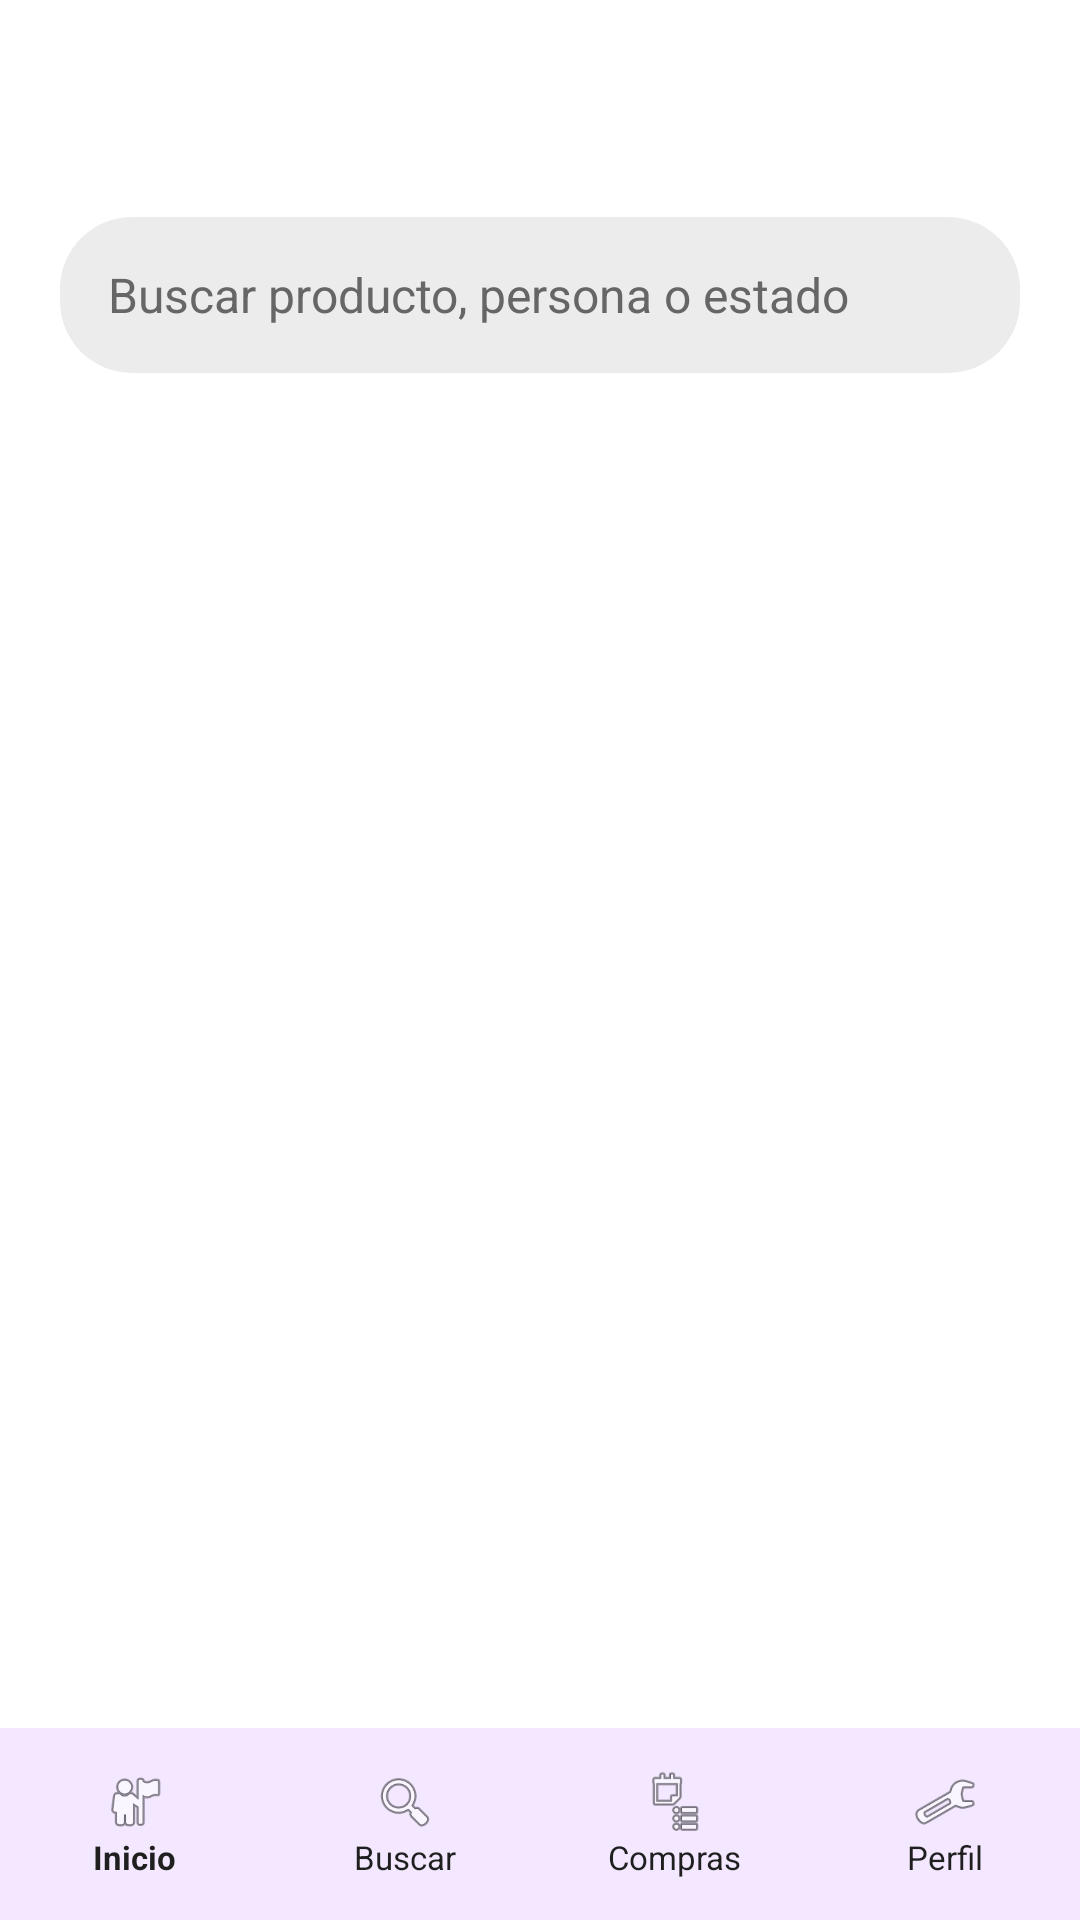

Named icons in this screenshot (1080px x 1920px) and their centers, point (x, y):
agenda: point (675, 1801)
manage: point (945, 1802)
myplaces: point (136, 1802)
